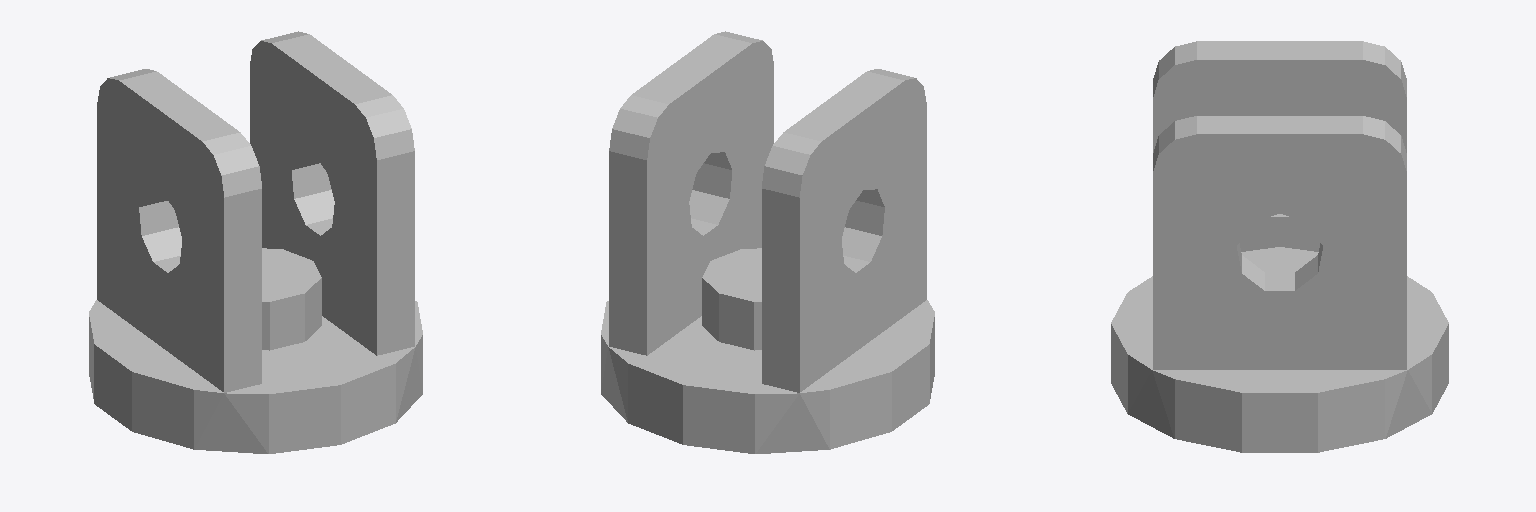
Rendered from OJB_Solid2_3.obj.
The picture shows the model from 3 angles: view 1: azimuth 30°, elevation 25°; view 2: azimuth 150°, elevation 25°; view 3: azimuth 270°, elevation 25°; orthographic projection.
Parts seen in each view (by area): view 1: Solid1:2; view 2: Solid1:2; view 3: Solid1:2.
Boxes of the visible parts, box(x1,y1,x2,y2) form: Solid1:2: box(89, 31, 422, 453); Solid1:2: box(601, 31, 934, 453); Solid1:2: box(1111, 41, 1448, 452).
Size of the model in its own units: 0.7491 by 0.843 by 0.7684.